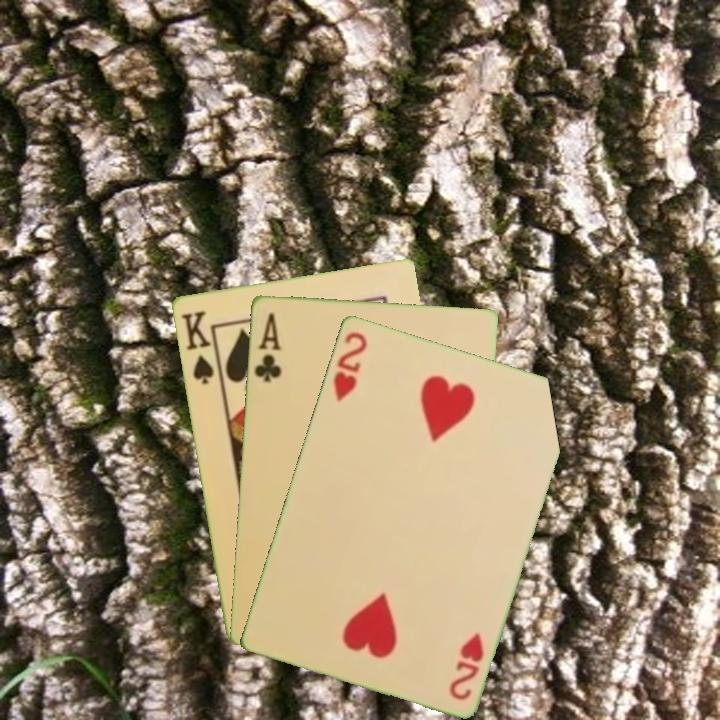2h: (445, 628, 487, 703), (329, 327, 370, 403)
Ac: (250, 308, 284, 385)
Ks: (177, 307, 216, 387)
